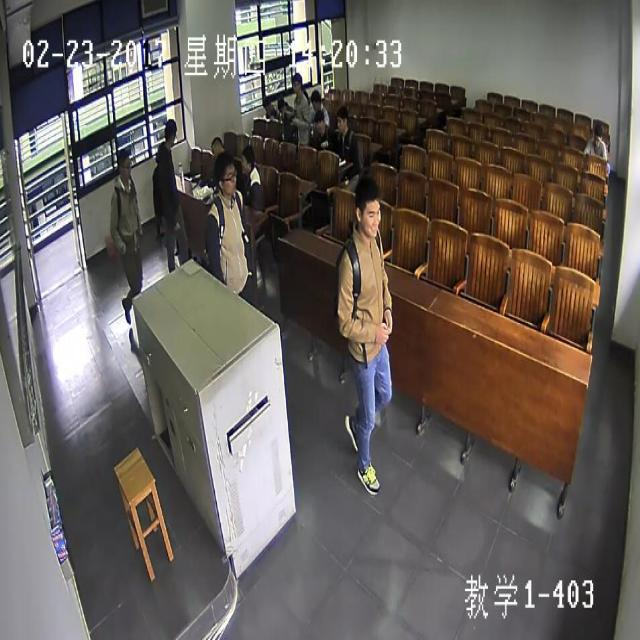no_helmet: (353, 175, 384, 240), (212, 150, 236, 198), (113, 146, 132, 178), (238, 146, 254, 177), (208, 131, 224, 160), (163, 119, 178, 149), (335, 104, 347, 134), (309, 86, 321, 113), (592, 119, 602, 148), (312, 111, 325, 132), (290, 71, 301, 93), (275, 93, 284, 112), (261, 93, 270, 112)
